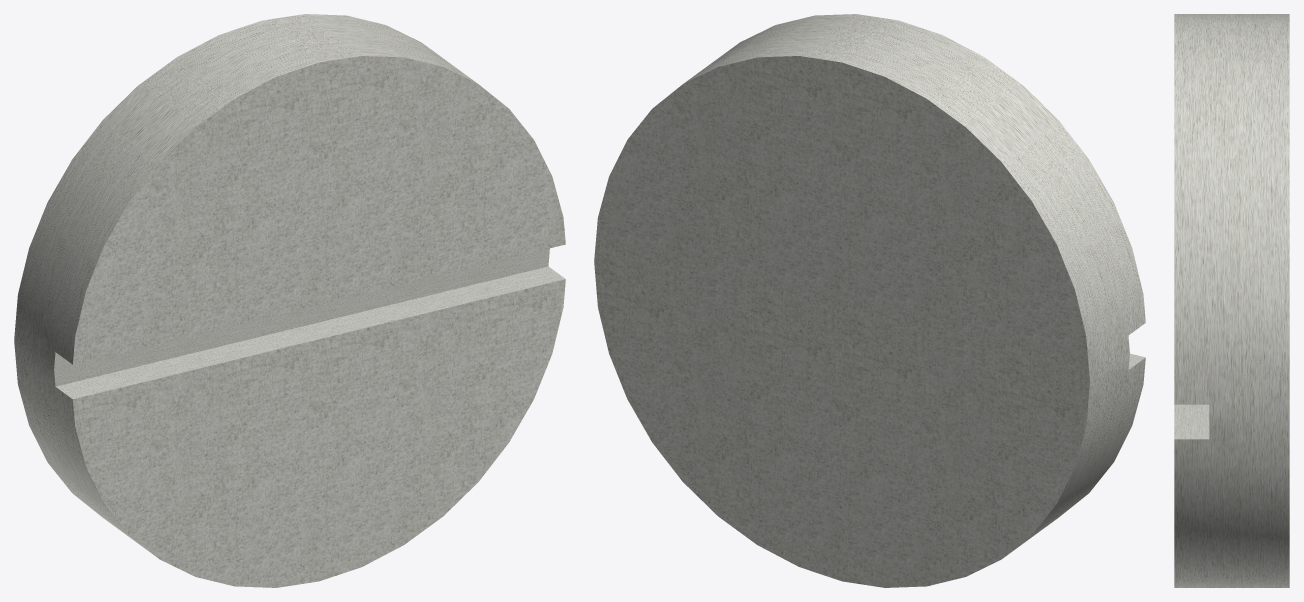
File: Tablet1.fbx
The picture shows the model from 3 angles, left to right: view 1: azimuth 30°, elevation 25°; view 2: azimuth 150°, elevation 25°; view 3: azimuth 270°, elevation 25°; orthographic projection.
Visible parts, largest first — view 1: aperin_1; view 2: aperin_1; view 3: aperin_1.
Boxes of the visible parts, x1,y1,x2,y2 form: aperin_1: (14,14,565,587); aperin_1: (594,14,1145,587); aperin_1: (1174,14,1289,587).
Bounding box in the file's own units: 0.015 × 0.015 × 0.003.
Materials: 1 (1 with a texture image).
